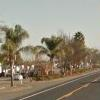Palm tree: (2, 12, 33, 70)
